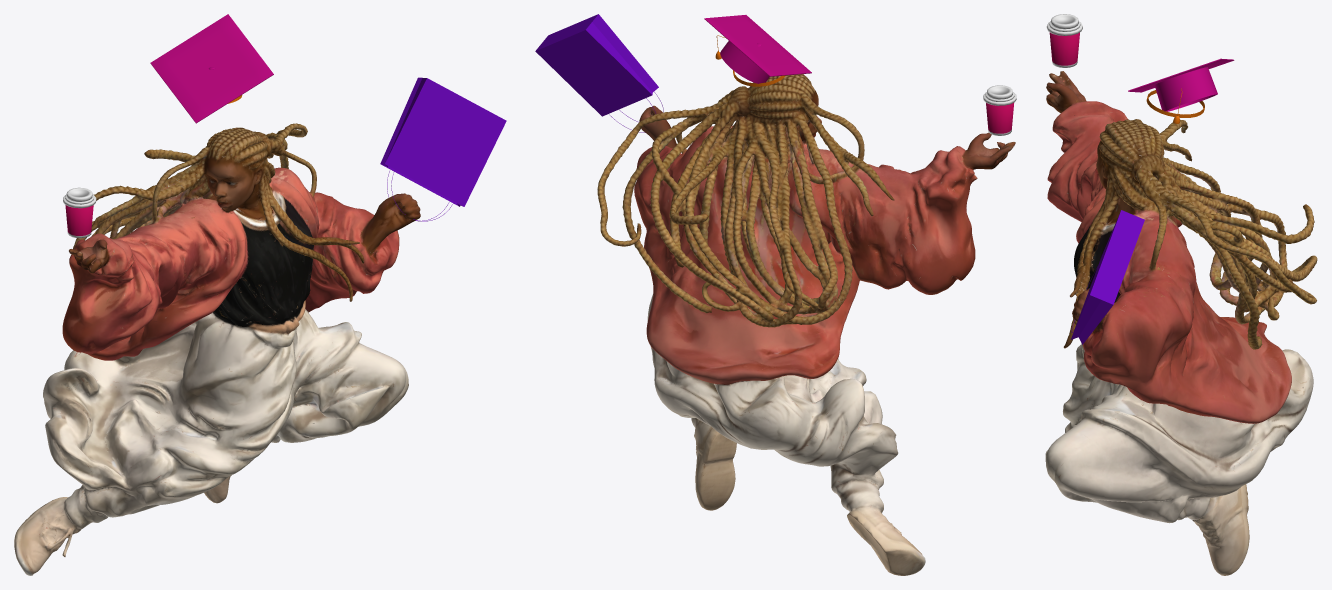
Rendered from woman+.glb.
3 views of the same model, side by side, from view 1: azimuth 30°, elevation 25°; view 2: azimuth 150°, elevation 25°; view 3: azimuth 270°, elevation 25° (orthographic). The views are drawn at different scales.
Parts seen in each view (by area): view 1: Mesh1.0, Cylinder_Material.001_0, Cube_2, Cylinder; view 2: Mesh1.0, Cylinder_Material.001_0, Cube_2, Cylinder; view 3: Mesh1.0, Cylinder_Material.001_0, Cube_2, Cylinder.
Boxes of the visible parts, left/top/right/bottom form: Mesh1.0: left=14, top=123, right=420, bottom=575; Cylinder_Material.001_0: left=380, top=77, right=506, bottom=221; Cube_2: left=150, top=14, right=273, bottom=123; Cylinder: left=63, top=187, right=96, bottom=238; Mesh1.0: left=597, top=74, right=1015, bottom=575; Cylinder_Material.001_0: left=535, top=14, right=663, bottom=132; Cube_2: left=704, top=15, right=811, bottom=86; Cylinder: left=983, top=85, right=1016, bottom=135; Mesh1.0: left=1045, top=71, right=1317, bottom=575; Cylinder_Material.001_0: left=1071, top=210, right=1144, bottom=344; Cube_2: left=1128, top=58, right=1234, bottom=117; Cylinder: left=1046, top=14, right=1082, bottom=67.
Bounding box in the file's own units: 2.12 × 2.26 × 1.03.
Materials: 6 (2 with a texture image).
